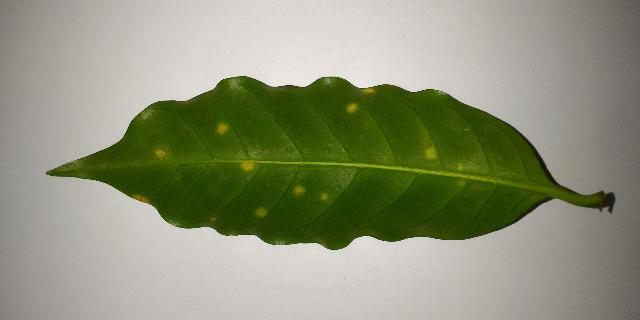miner: (154, 148, 169, 161), (132, 195, 149, 203), (218, 123, 228, 136), (255, 207, 267, 217), (425, 147, 435, 159), (360, 87, 376, 94), (243, 161, 254, 171), (348, 103, 357, 113), (294, 186, 305, 194), (321, 193, 328, 200), (458, 163, 464, 171)
